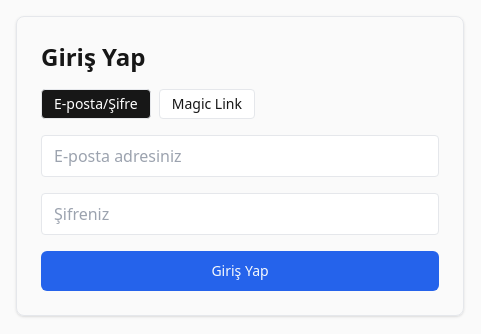
it: LoginPage › Password Login › loading durumunda button disable oluyor
Type "test@example.com" into the field with placeholder "E-posta adresiniz" at (240, 156), box [41,135,439,177]
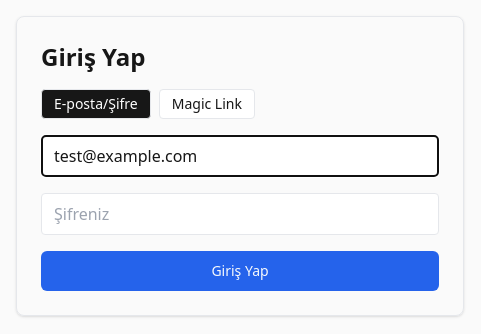
Type "password123" into the password field with placeholder "Şifreniz" at (240, 214), box [41,193,439,235]
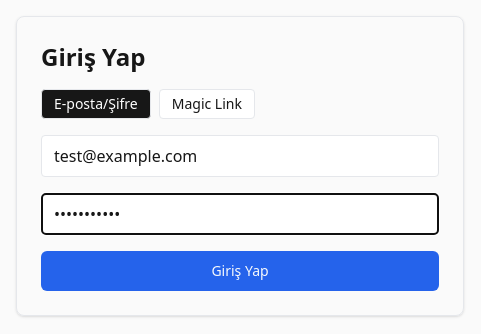
Click the button "Giriş Yap" at (240, 271), box [41,251,439,291]
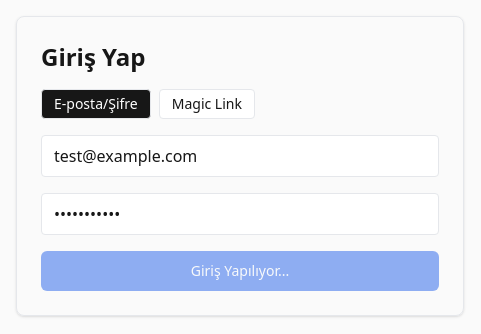
Now the button "Giriş Yapılıyor..." is disabled, box [41,251,439,291]
